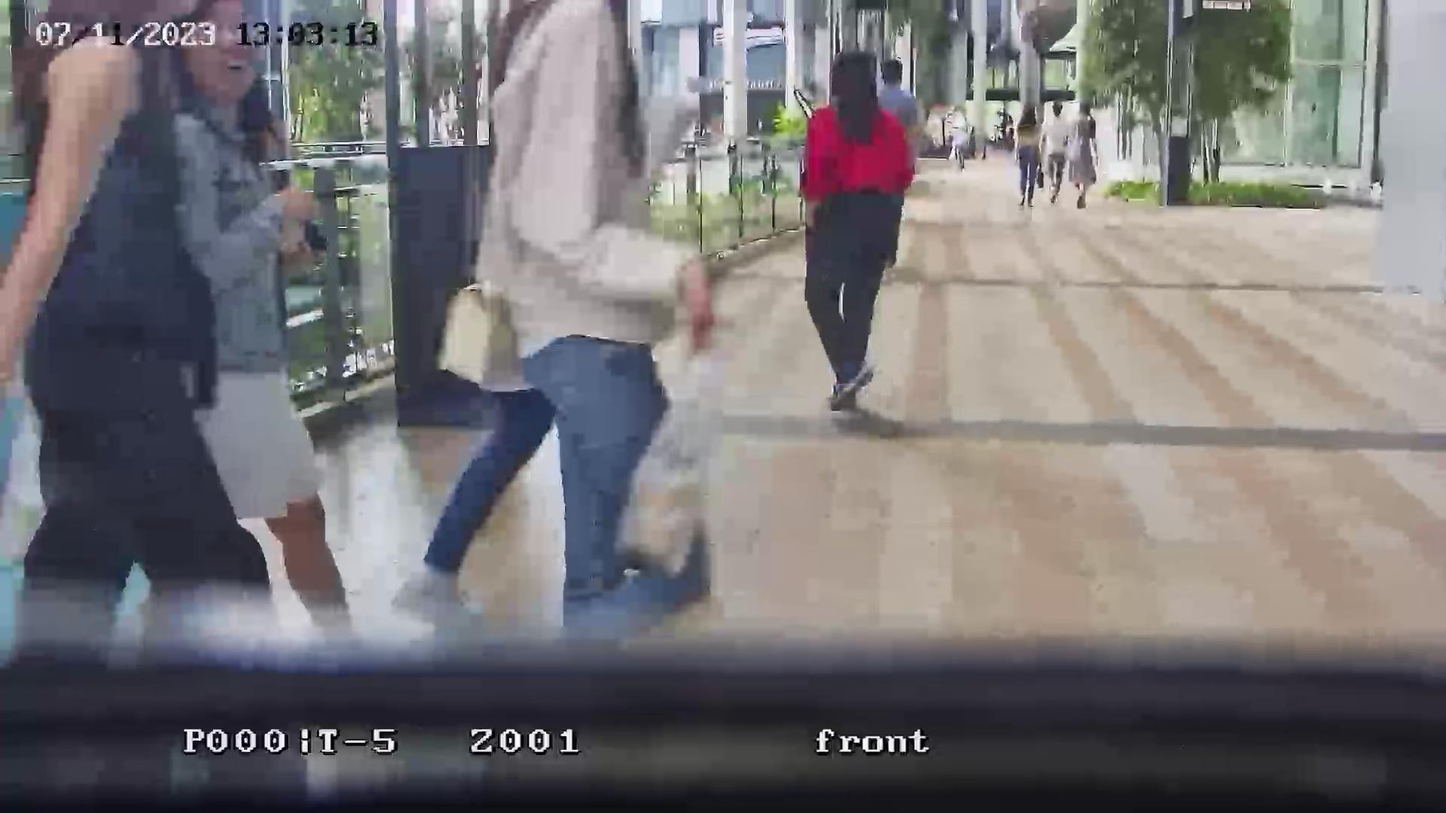person: (1, 1, 353, 633), (391, 1, 675, 620), (798, 49, 916, 413), (522, 335, 670, 599), (1065, 111, 1100, 209), (1011, 103, 1043, 206), (878, 57, 920, 132), (1042, 102, 1073, 202), (946, 104, 972, 172)
